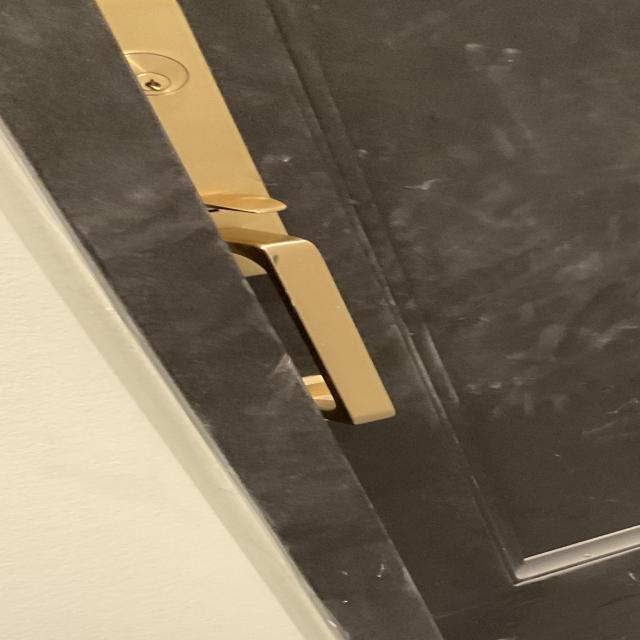door_handle: (219, 230, 429, 430)
